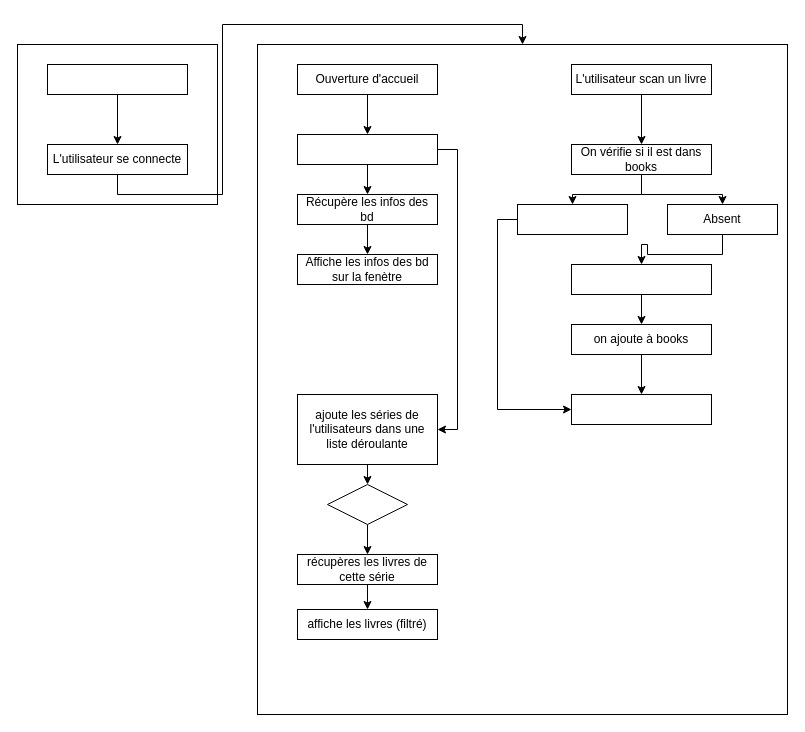
Some shapes in this 805 by 732 pixel diagram are drawn without their labels. Here are the shapes that lost their labels. From the top down, the box of each, then its label:
(46, 64, 188, 94): L'utilisateur enregistre un compte
(296, 134, 438, 164): Récupère les id des bd de l'utilisateur
(516, 204, 628, 234): Présent
(570, 264, 712, 294): on récupère les infos avec google API
(570, 394, 712, 424): on ajoute dans comic_books de user
(326, 484, 408, 524): Click
